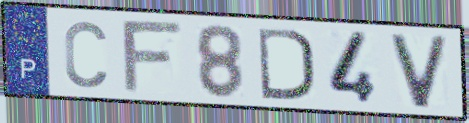4: (325, 28, 384, 108)
8: (194, 22, 246, 99)
C: (61, 18, 110, 91)
D: (255, 24, 317, 103)
F: (119, 20, 186, 95)
V: (388, 32, 451, 111)
